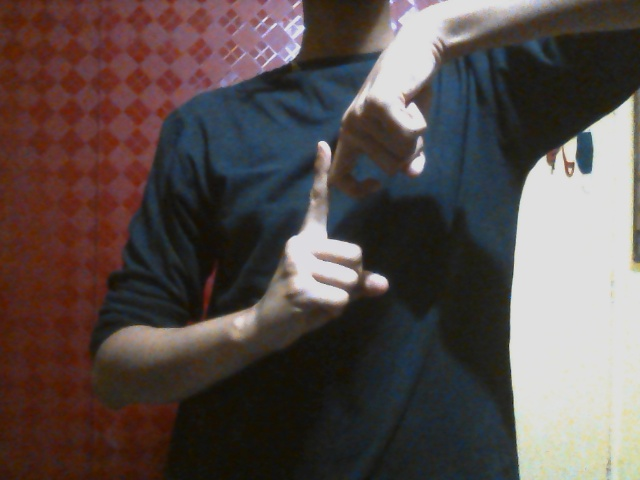K: (265, 105, 424, 343)
